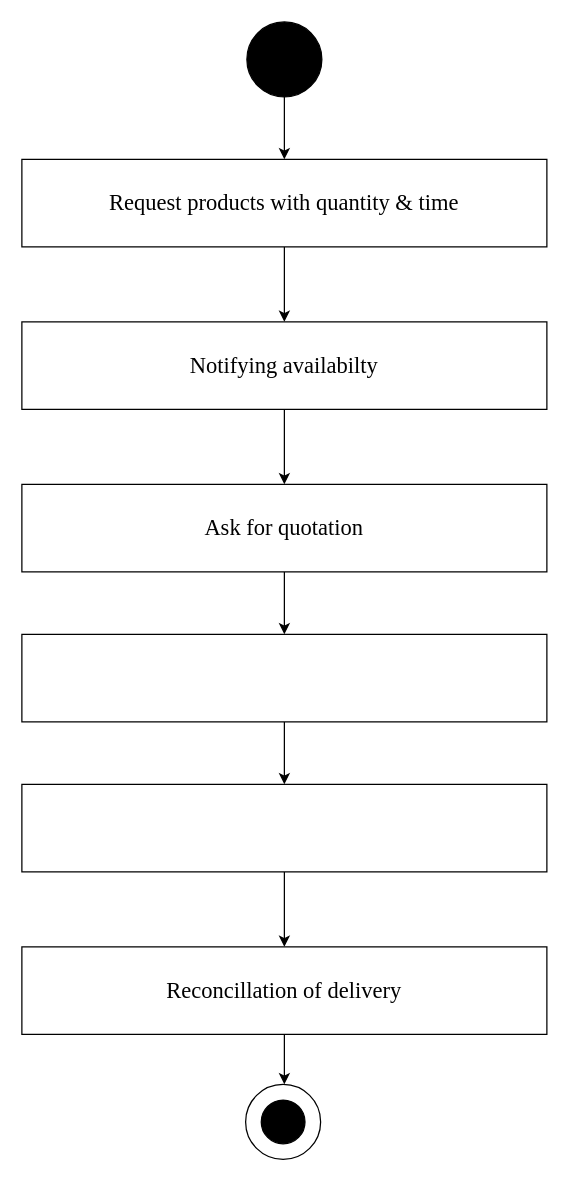
Some shapes in this 569 by 1181 pixel diagram are drawn without their labels. Here are the shapes that lost their labels. From the top down, the centre of each, then its label:
At point (284, 677): "Negotiation".
At point (284, 827): "Confirmation / Negation of request".
